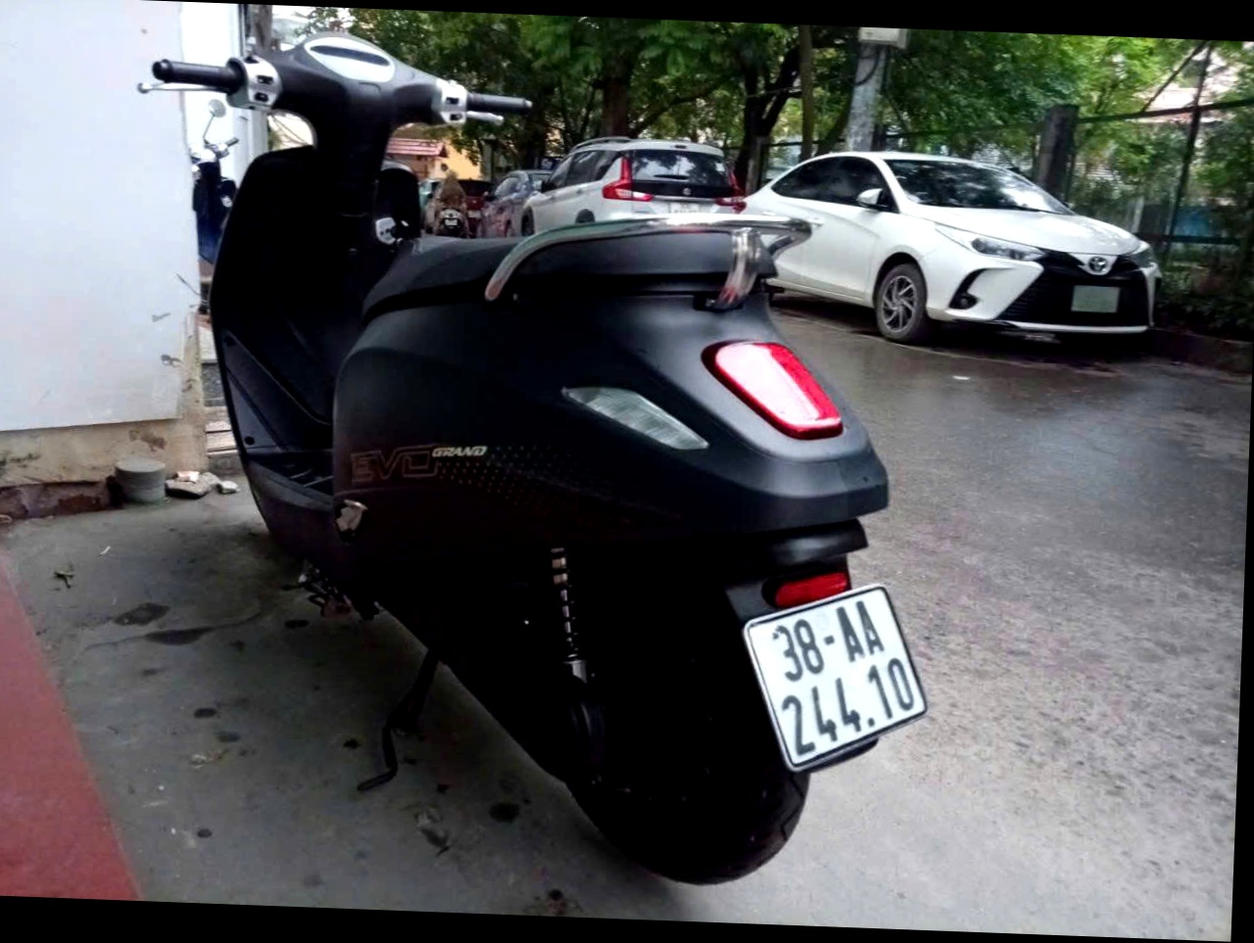Bien-so: (740, 577, 933, 781)
